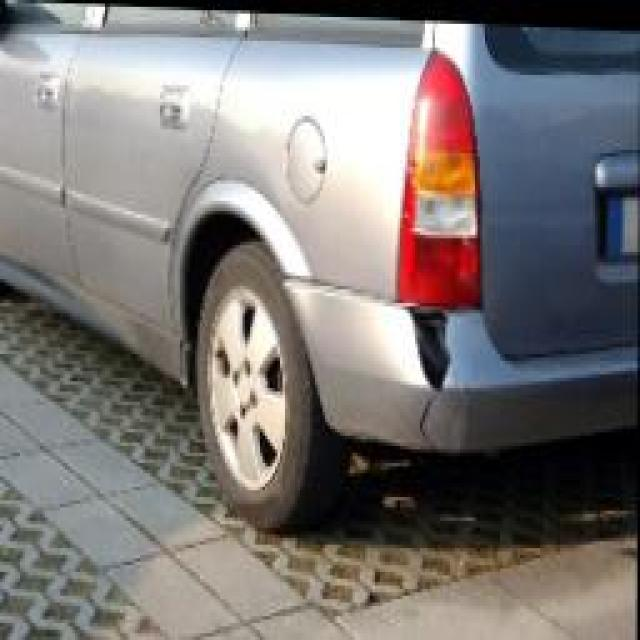Bumper: (370, 306, 473, 447)
